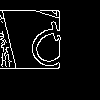Q: (16, 18, 81, 81)
